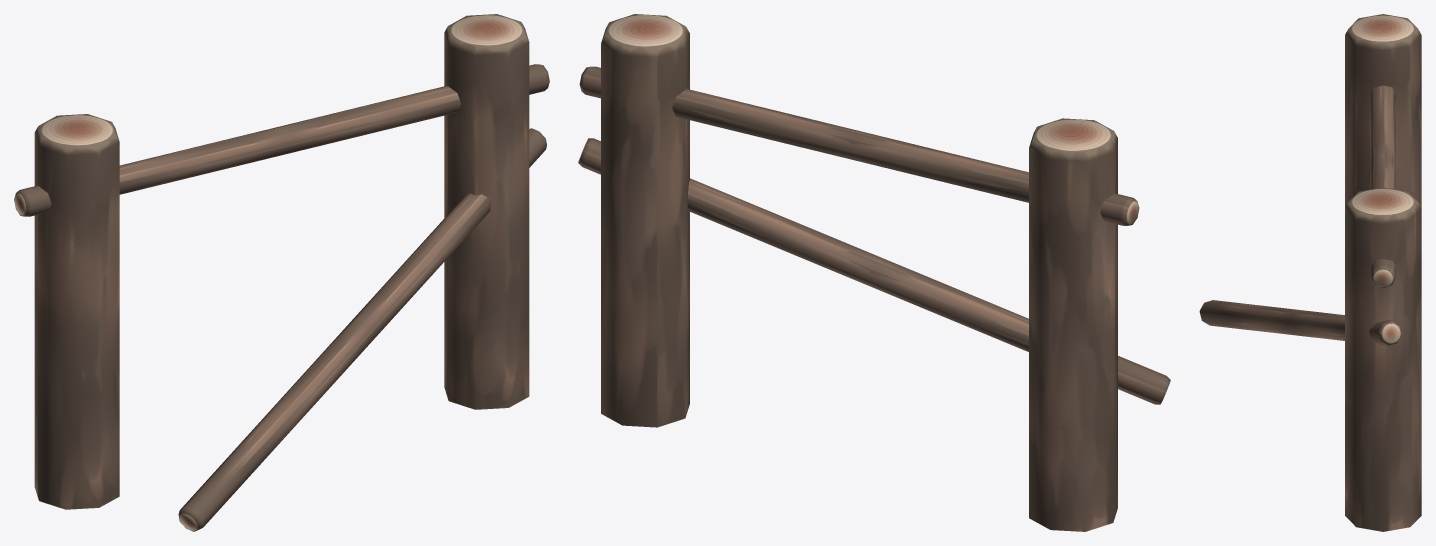
File: fence01.fbx
The picture shows the model from 3 angles, left to right: view 1: azimuth 30°, elevation 25°; view 2: azimuth 150°, elevation 25°; view 3: azimuth 270°, elevation 25°; orthographic projection. The views are drawn at different scales.
Visible parts, largest first — view 1: fence; view 2: fence; view 3: fence.
Part boxes in pixels (x1=…): fence: x1=14, y1=14, x2=549, y2=531; fence: x1=578, y1=14, x2=1170, y2=531; fence: x1=1199, y1=14, x2=1421, y2=531.
Size of the model in its own units: 13.8 by 9.12 by 5.81.
